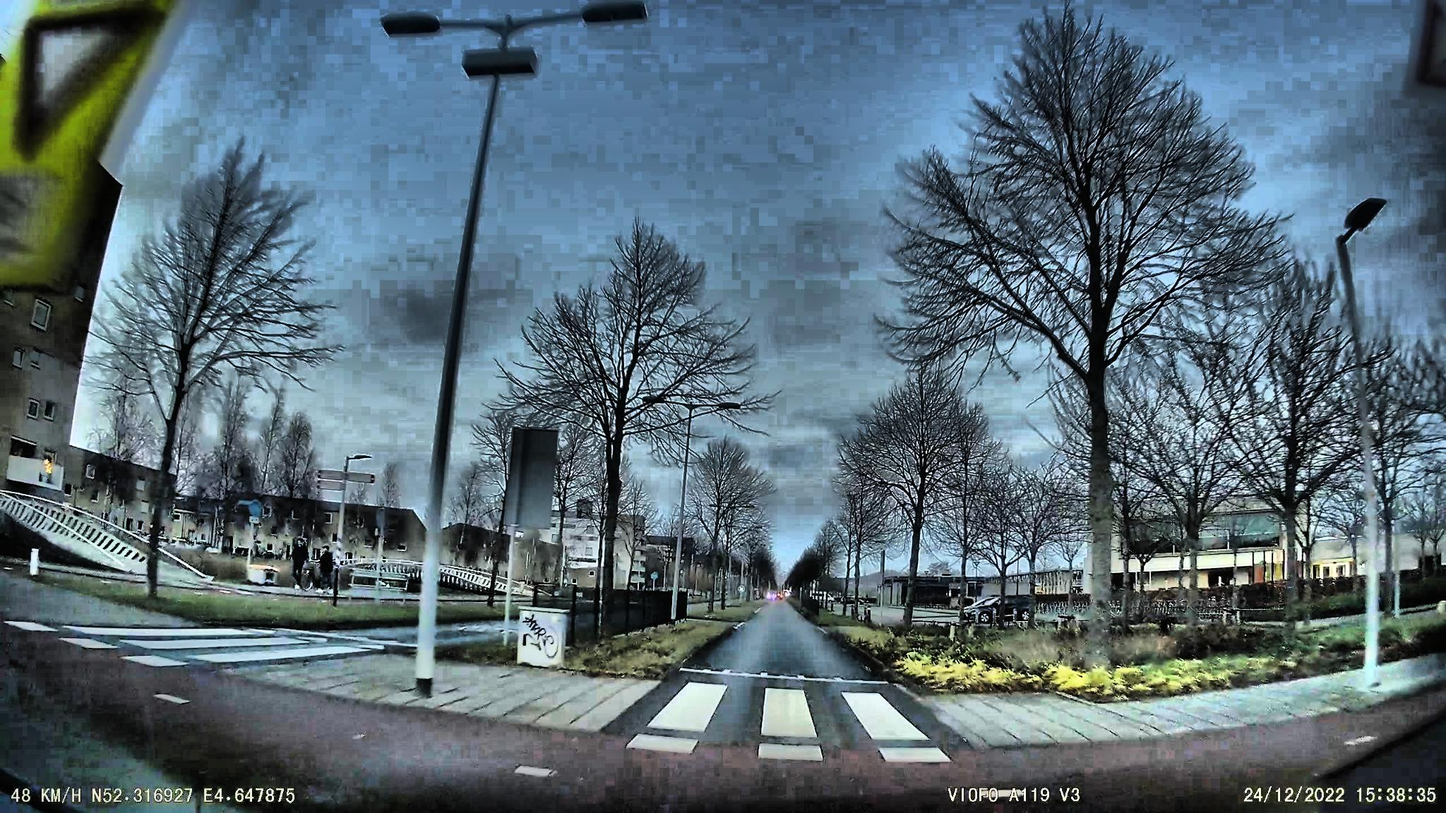Roads: (596, 604, 1004, 803)
